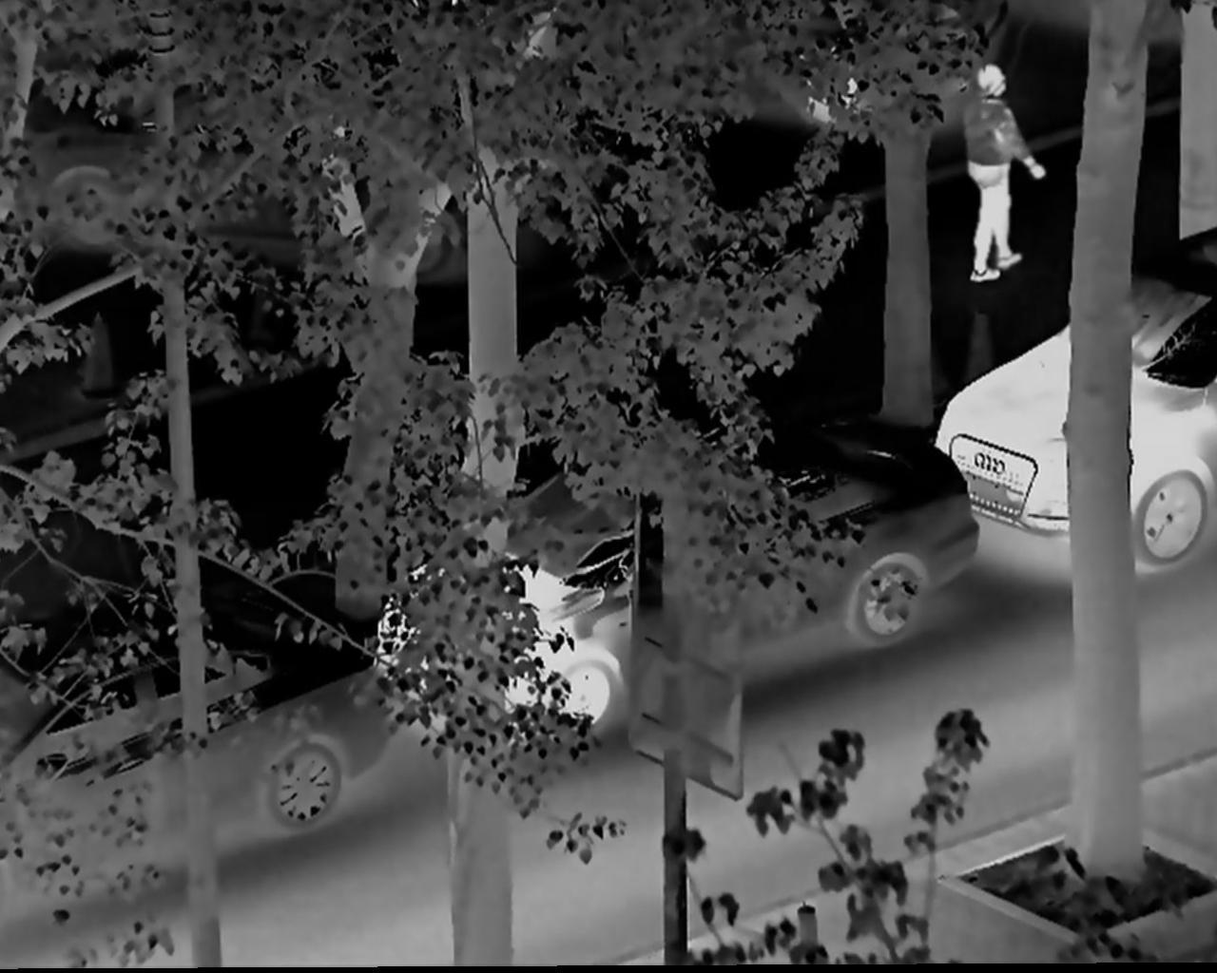person: (952, 47, 1050, 290)
